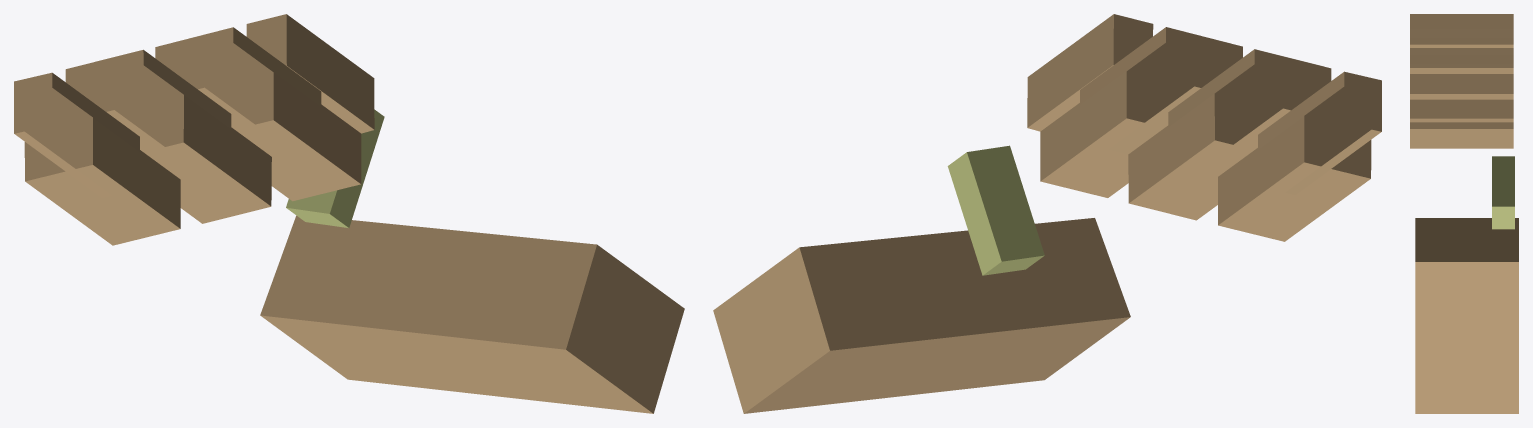
The picture shows the model from 3 angles, left to right: view 1: azimuth 30°, elevation 25°; view 2: azimuth 150°, elevation 25°; view 3: azimuth 270°, elevation 25°; orthographic projection. The views are drawn at different scales.
Visible parts, largest first — view 1: 0_3_1_3_3_3_1_3; view 2: 0_3_1_3_3_3_1_3; view 3: 0_3_1_3_3_3_1_3.
Part boxes in pixels (x1=…): 0_3_1_3_3_3_1_3: x1=14, y1=14, x2=684, y2=413; 0_3_1_3_3_3_1_3: x1=713, y1=14, x2=1381, y2=413; 0_3_1_3_3_3_1_3: x1=1410, y1=14, x2=1518, y2=413.
Bounding box in the file's own units: 104 × 69.35 × 28.4.
